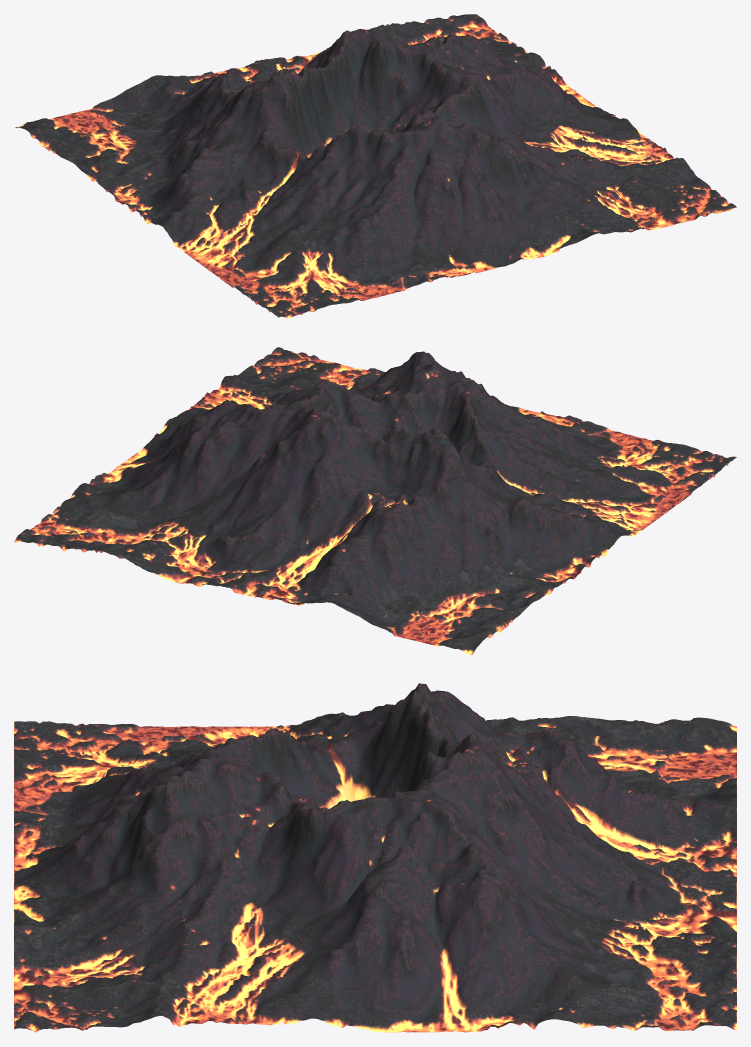
Rendered from volcano.glb.
3 renders of one model, top to bottom at view 1: azimuth 30°, elevation 25°; view 2: azimuth 150°, elevation 25°; view 3: azimuth 270°, elevation 25°, orthographic. The views are drawn at different scales.
Visible parts, largest first — view 1: Volcano_001; view 2: Volcano_001; view 3: Volcano_001.
Part boxes in pixels (left/top/right/bottom): Volcano_001: left=15, top=14, right=736, bottom=318; Volcano_001: left=14, top=347, right=736, bottom=654; Volcano_001: left=14, top=683, right=736, bottom=1032.
Size of the model in its own units: 2 by 0.4632 by 2.
1 material, 1 textured.
